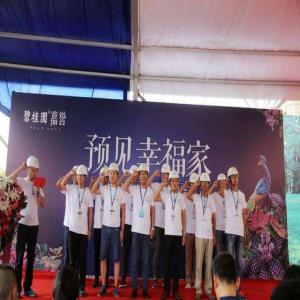none: (210, 248, 243, 299)
white: (26, 154, 41, 180), (228, 165, 240, 190), (108, 164, 120, 187), (138, 163, 150, 186), (77, 164, 88, 189), (200, 172, 212, 194), (169, 170, 180, 192), (189, 171, 200, 192), (129, 164, 139, 184), (161, 163, 171, 182), (217, 172, 227, 191), (101, 167, 110, 186)
